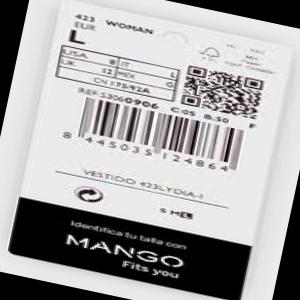mango: (59, 229, 192, 274)
